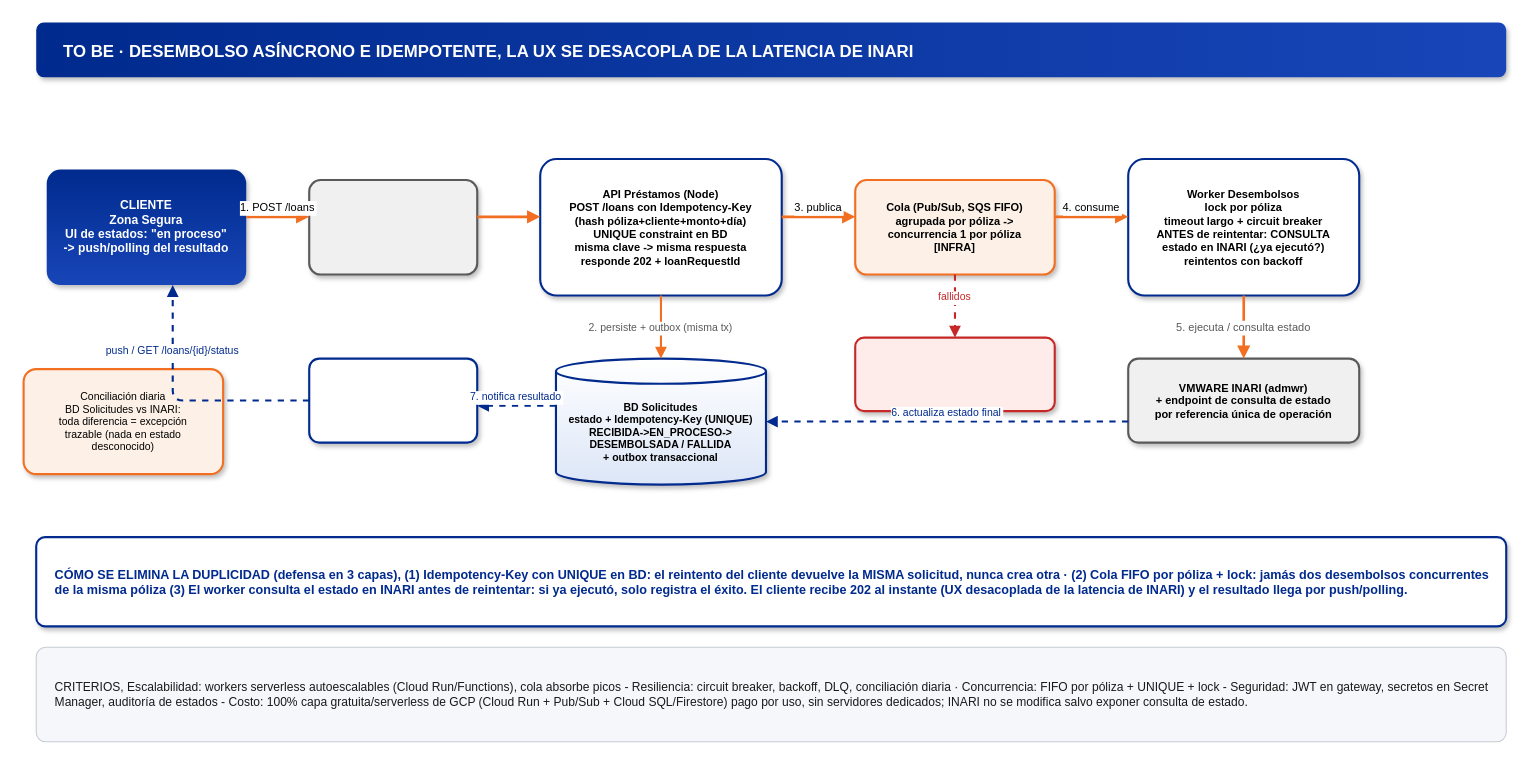
This 1531x760 diagram has some shape labels left out. Each missing label, with the centre of its shape:
API Gateway + WAF JWT rate limiting [INFRA]: pixel 393 228
DLQ + alertas (fallidos tras N reintentos) -> revisión operativa: pixel 955 375
Notificaciones push / correo al cliente con el resultado final: pixel 393 401
